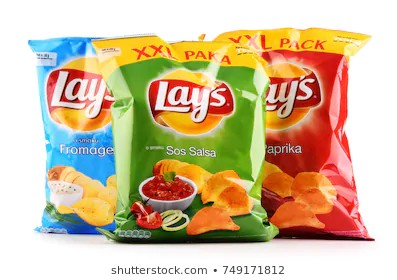lays-large: (115, 47, 264, 243), (260, 30, 377, 235), (31, 38, 115, 235)
